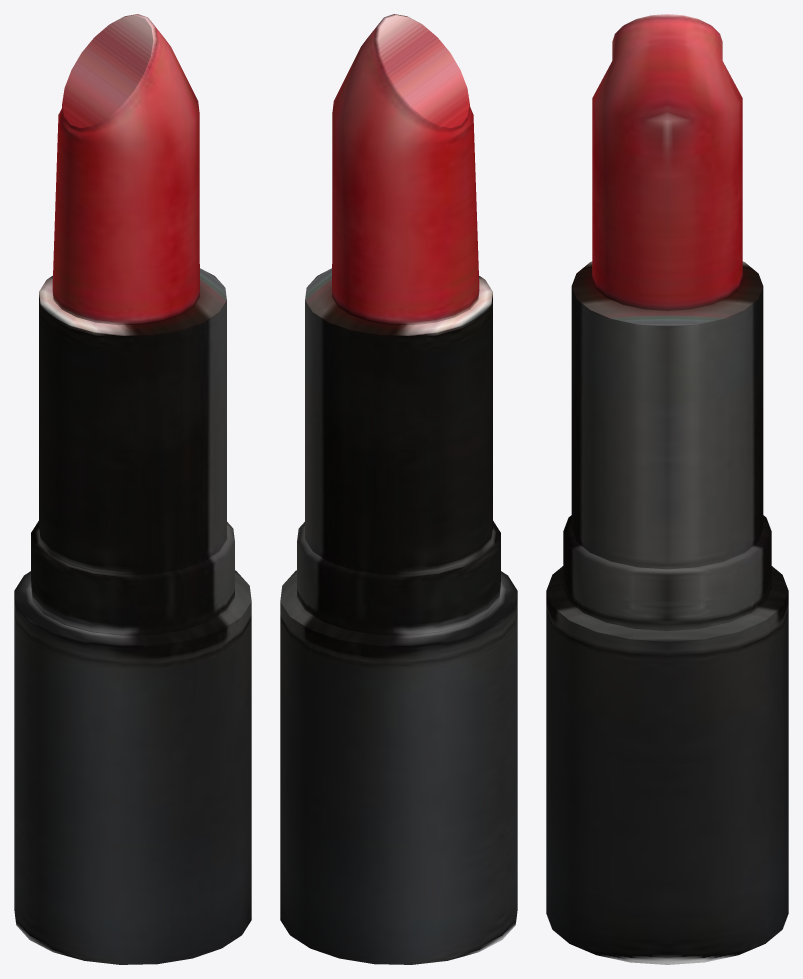
Rendered from lippenstift.fbx.
3 renders of one model, left to right at view 1: azimuth 30°, elevation 25°; view 2: azimuth 150°, elevation 25°; view 3: azimuth 270°, elevation 25°, orthographic.
Parts seen in each view (by area): view 1: pCylinder1; view 2: pCylinder1; view 3: pCylinder1.
Part boxes in pixels (left/top/right/bottom): pCylinder1: left=14, top=14, right=251, bottom=964; pCylinder1: left=280, top=14, right=517, bottom=964; pCylinder1: left=546, top=14, right=788, bottom=964.
Size of the model in its own units: 1.7 by 7.04 by 1.7.
